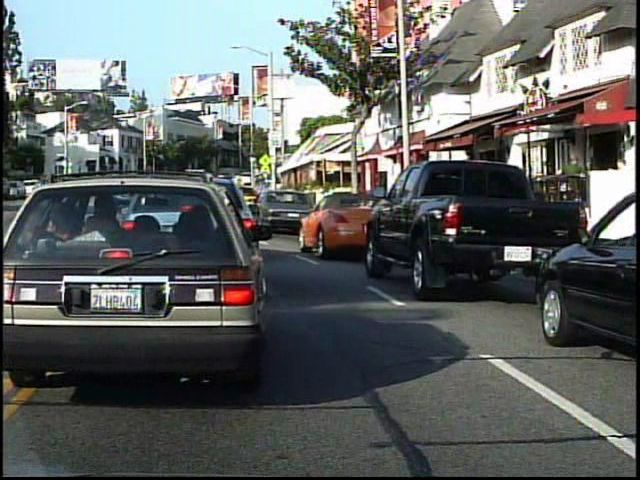person: (559, 149, 591, 224)
